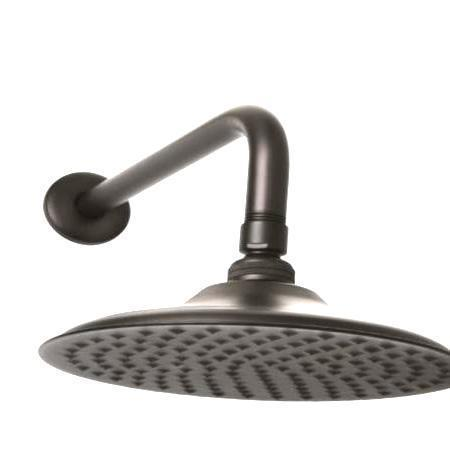Ducha: (27, 103, 449, 403)
